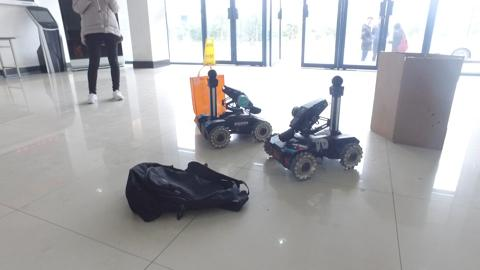bag: (129, 159, 250, 221)
box: (371, 49, 457, 151)
chariot: (266, 77, 362, 179), (196, 70, 271, 146)
